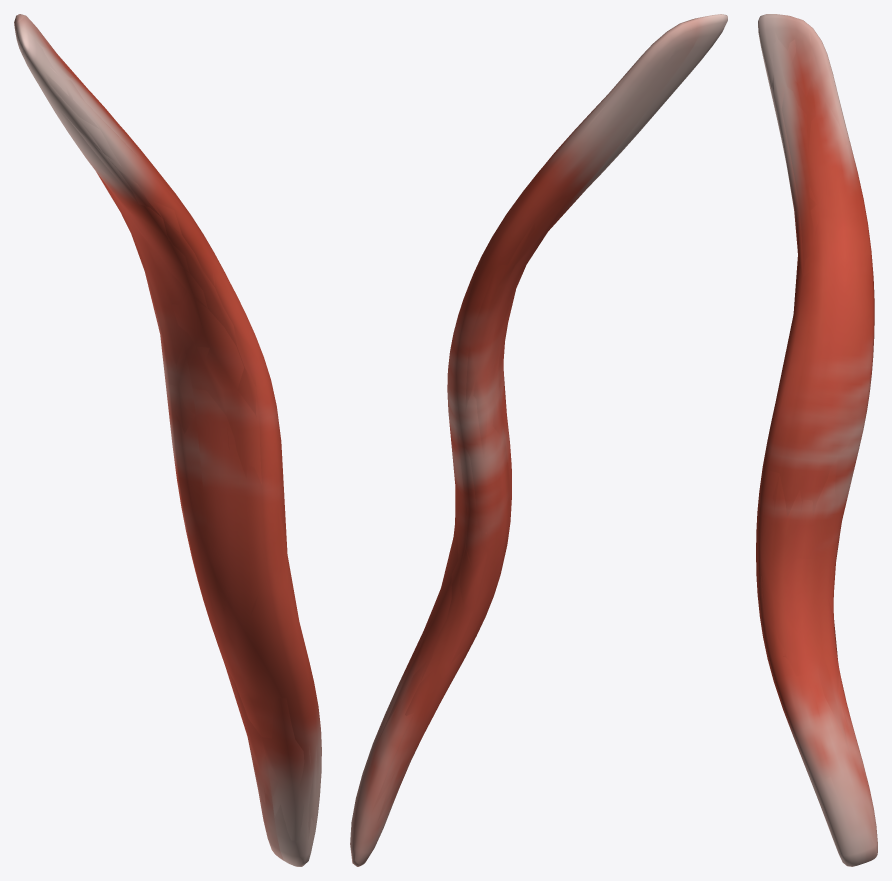
File: L Sartorius.fbx
3 views of the same model, side by side, from view 1: azimuth 30°, elevation 25°; view 2: azimuth 150°, elevation 25°; view 3: azimuth 270°, elevation 25° (orthographic). The views are drawn at different scales.
Parts seen in each view (by area): view 1: L Sartorius, L Sartorius low; view 2: L Sartorius, L Sartorius low; view 3: L Sartorius, L Sartorius low.
Part boxes in pixels (x1,y1,x2,y2): L Sartorius: (14,14,321,866); L Sartorius low: (14,14,317,841); L Sartorius: (350,14,727,866); L Sartorius low: (351,18,726,860); L Sartorius: (756,14,877,866); L Sartorius low: (757,15,877,866).
Bounding box in the file's own units: 8.92 × 23.61 × 3.57.
